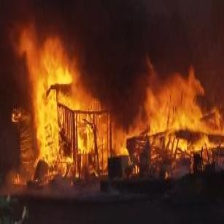fire: (15, 28, 223, 178)
